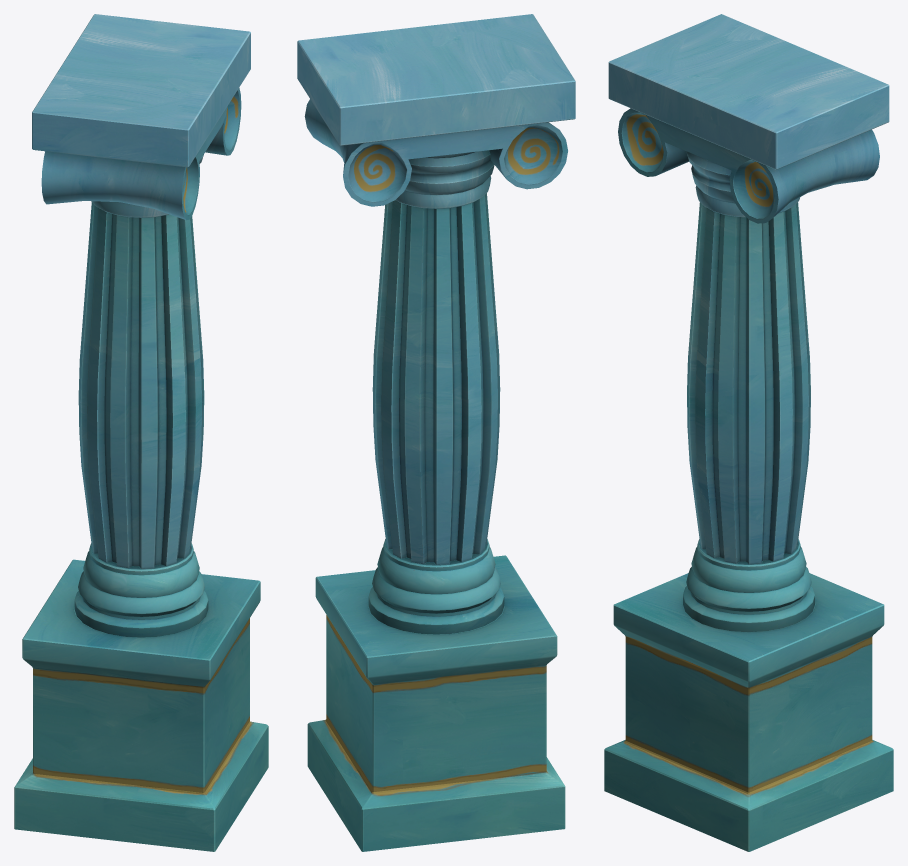
The model's file is SM_Big_Pillar_01.fbx.
3 renders of one model, left to right at view 1: azimuth 30°, elevation 25°; view 2: azimuth 150°, elevation 25°; view 3: azimuth 270°, elevation 25°, orthographic. The views are drawn at different scales.
Visible parts, largest first — view 1: SM_Big_Pillar_01; view 2: SM_Big_Pillar_01; view 3: SM_Big_Pillar_01.
Boxes of the visible parts, x1,y1,x2,y2 form: SM_Big_Pillar_01: (14, 14, 268, 851); SM_Big_Pillar_01: (297, 14, 575, 851); SM_Big_Pillar_01: (604, 14, 893, 851).
Size of the model in its own units: 902 by 2470 by 902.
